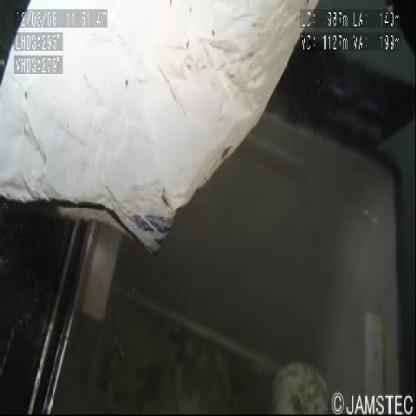Rác: (1, 1, 333, 262)
